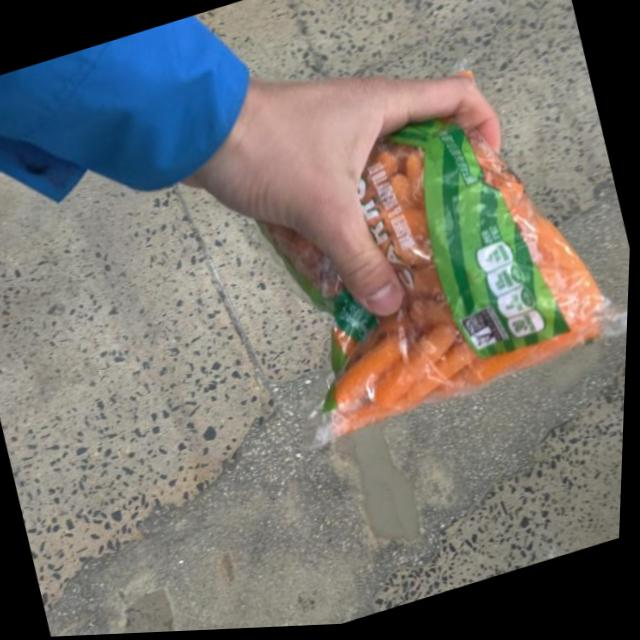Carrots: (219, 34, 638, 472)
